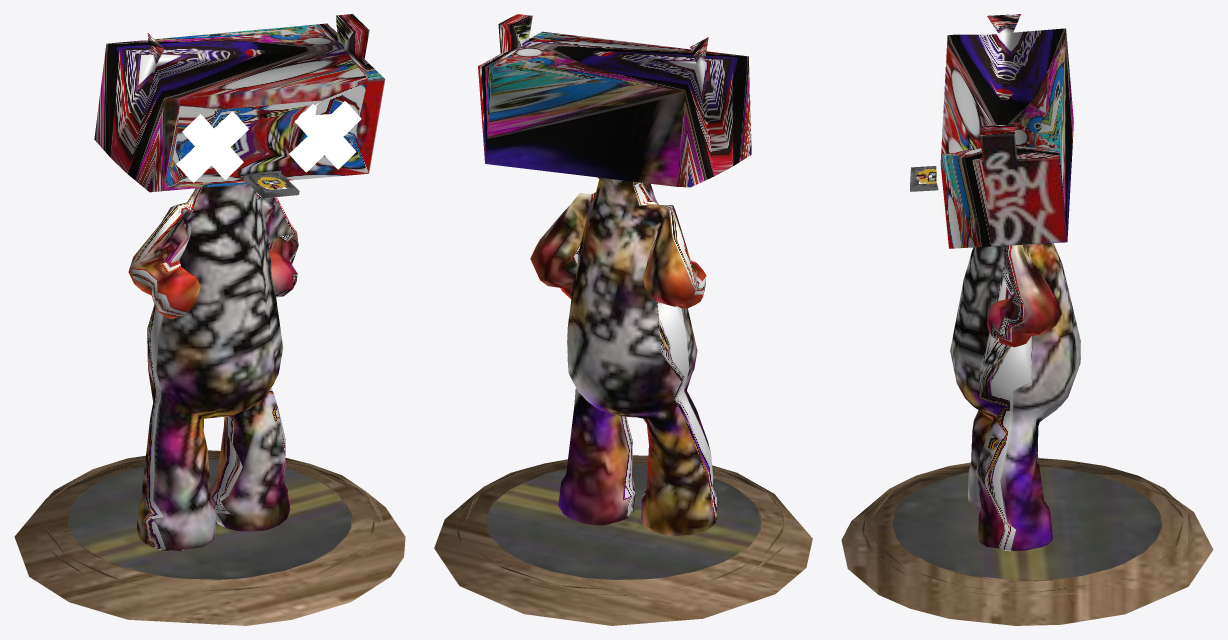
3 views of the same model, side by side, from view 1: azimuth 30°, elevation 25°; view 2: azimuth 150°, elevation 25°; view 3: azimuth 270°, elevation 25° (orthographic). The views are drawn at different scales.
Bounding box in the file's own units: 1.44 × 2.15 × 1.44.
Materials: 9 (5 with a texture image).
